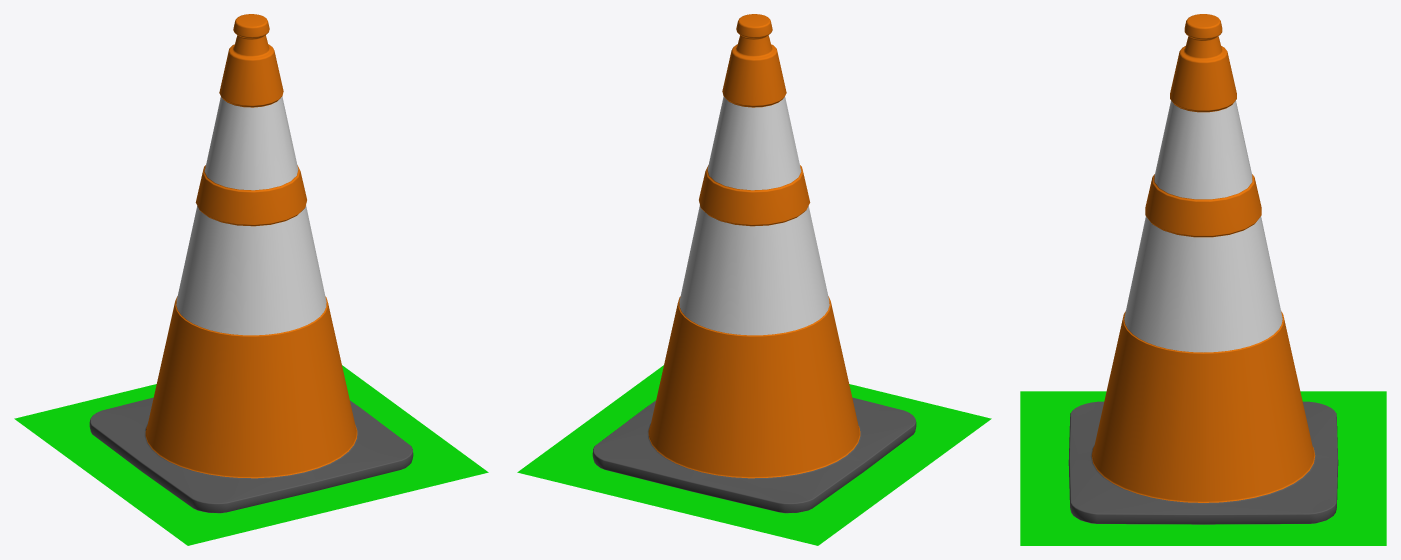
File: koneSmall.fbx
3 views of the same model, side by side, from view 1: azimuth 30°, elevation 25°; view 2: azimuth 150°, elevation 25°; view 3: azimuth 270°, elevation 25° (orthographic). The views are drawn at different scales.
Parts seen in each view (by area): view 1: koneSmall, barrel_shdw_decal; view 2: koneSmall, barrel_shdw_decal; view 3: koneSmall, barrel_shdw_decal.
Boxes of the visible parts, left/top/right/bottom form: koneSmall: left=89, top=14, right=413, bottom=513; barrel_shdw_decal: left=14, top=365, right=488, bottom=545; koneSmall: left=592, top=14, right=916, bottom=513; barrel_shdw_decal: left=517, top=365, right=991, bottom=545; koneSmall: left=1068, top=14, right=1338, bottom=524; barrel_shdw_decal: left=1020, top=391, right=1386, bottom=545.
Bounding box in the file's own units: 21.29 × 28.75 × 21.29.
